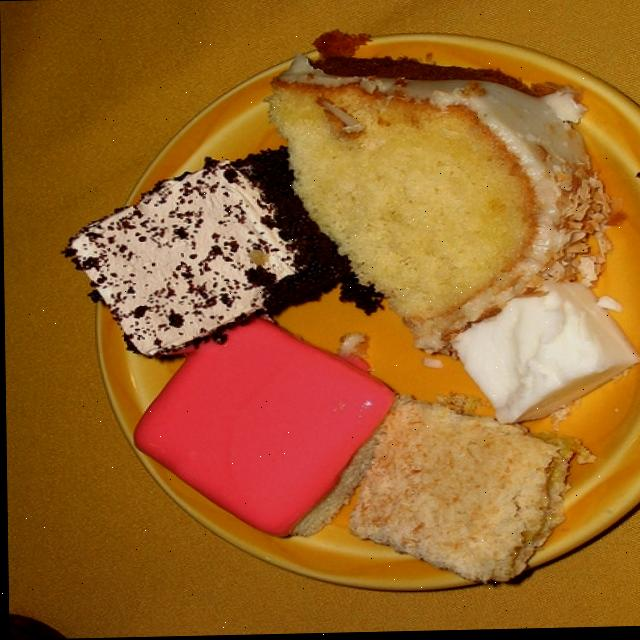蛋糕甜品: (72, 31, 640, 597)
